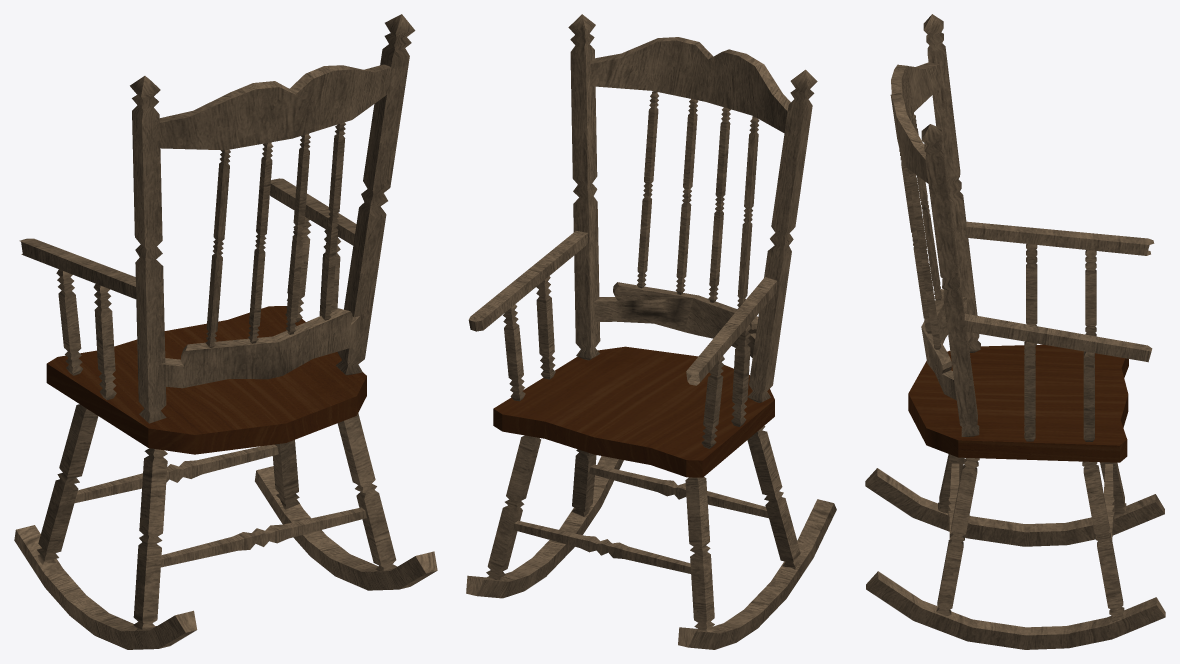
File: chair.gltf
3 renders of one model, left to right at view 1: azimuth 30°, elevation 25°; view 2: azimuth 150°, elevation 25°; view 3: azimuth 270°, elevation 25°, orthographic. The views are drawn at different scales.
Parts seen in each view (by area): view 1: Object_74; view 2: Object_74; view 3: Object_74.
Boxes of the visible parts, <box> form: Object_74: <box>14,14,437,649</box>; Object_74: <box>466,14,836,649</box>; Object_74: <box>865,14,1165,649</box>.
Bounding box in the file's own units: 1.36 × 2.85 × 1.47.
1 material, 1 textured.
